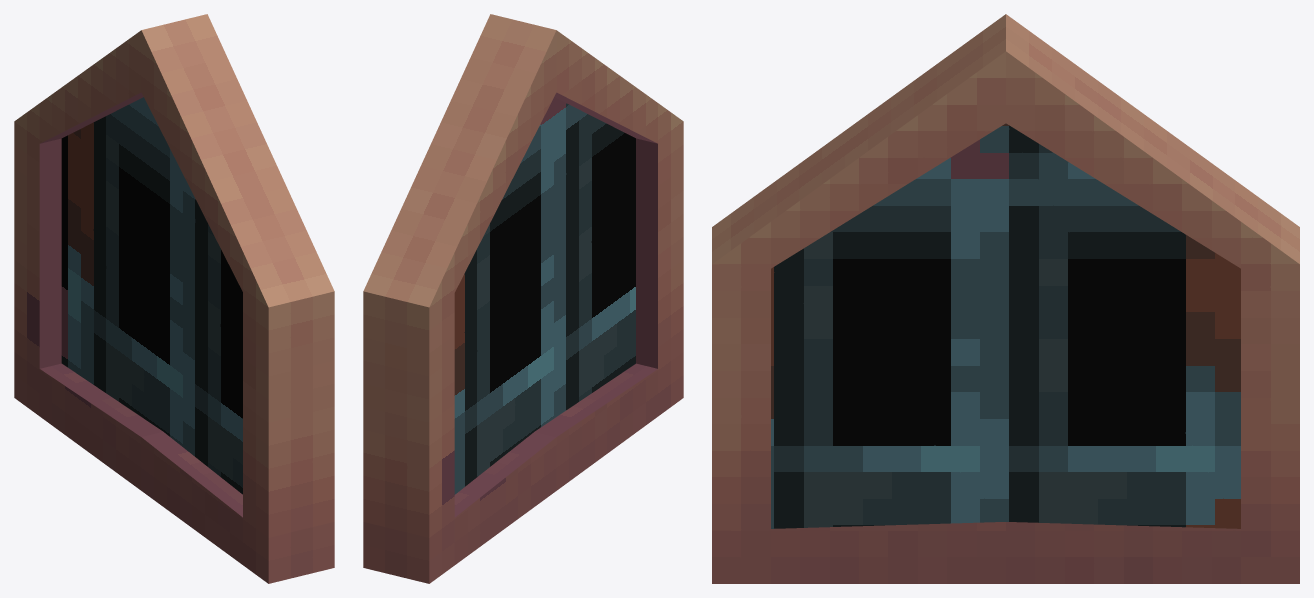
File: window.obj
The picture shows the model from 3 angles, left to right: view 1: azimuth 30°, elevation 25°; view 2: azimuth 150°, elevation 25°; view 3: azimuth 270°, elevation 25°; orthographic projection. The views are drawn at different scales.
Parts seen in each view (by area): view 1: mesh; view 2: mesh; view 3: mesh.
Boxes of the visible parts, left/top/right/bottom form: mesh: left=14, top=14, right=334, bottom=583; mesh: left=363, top=14, right=683, bottom=583; mesh: left=712, top=14, right=1299, bottom=583.
Bounding box in the file's own units: 0.1875 × 1.25 × 1.25.
Materials: 2 (2 with a texture image).
